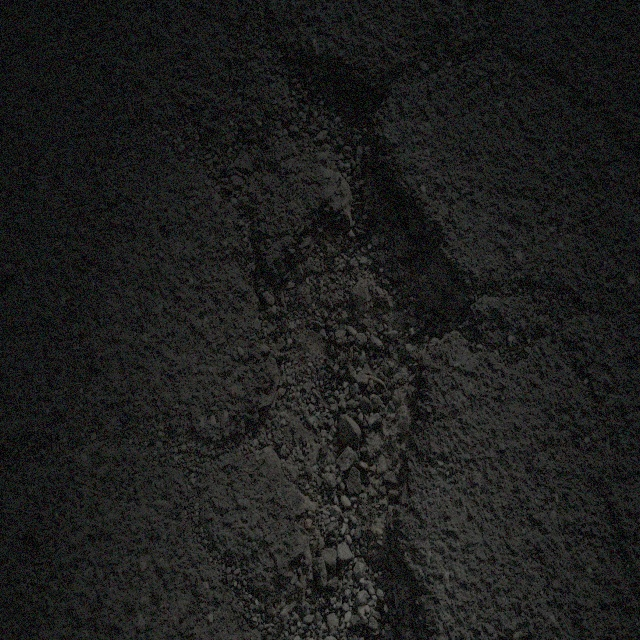pothole: (243, 72, 476, 553)
